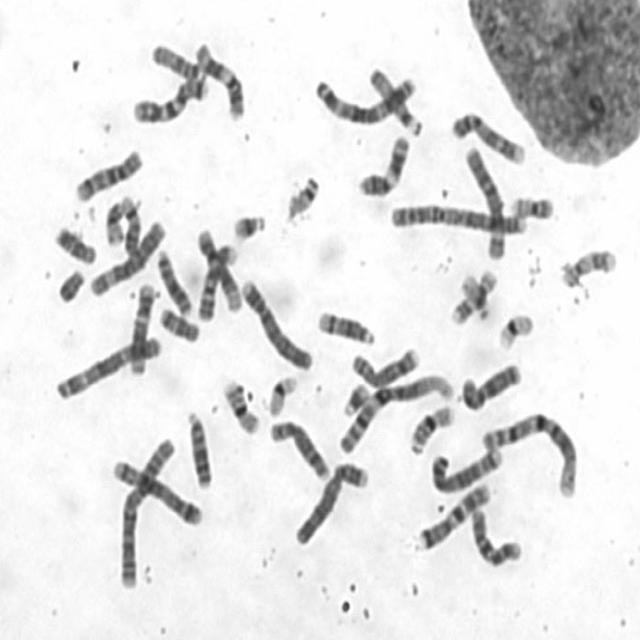A1: (335, 368, 457, 456), (475, 404, 581, 500)
A2: (113, 428, 177, 591), (386, 196, 529, 238)
A3: (52, 331, 165, 402), (310, 69, 418, 127)
B4: (236, 270, 314, 372), (290, 455, 372, 549)
B5: (109, 453, 204, 528), (428, 443, 504, 495)
C10: (72, 144, 144, 204), (466, 504, 524, 568)
C11: (190, 36, 247, 122), (353, 129, 411, 199)
C12: (192, 223, 244, 317), (125, 278, 158, 378)
C6: (86, 212, 169, 298), (460, 139, 510, 262)
C7: (413, 478, 493, 552), (128, 70, 210, 126)
C8: (264, 414, 333, 482), (348, 340, 422, 390)
C9: (448, 106, 527, 166), (194, 234, 242, 323)
D13: (152, 245, 194, 317), (182, 406, 214, 492)
D14: (313, 304, 377, 347), (118, 192, 144, 258)
D15: (364, 62, 424, 138), (147, 36, 206, 84)
E16: (406, 398, 458, 457), (219, 372, 263, 437)
E17: (555, 240, 620, 290), (448, 264, 500, 326)
E18: (50, 219, 99, 265), (155, 303, 201, 343)
F19: (495, 306, 537, 352), (264, 368, 300, 418)
F20: (506, 189, 556, 220), (102, 195, 126, 246)
G21: (229, 206, 269, 244), (337, 377, 371, 417)
G22: (283, 168, 323, 222), (459, 273, 491, 322)
X: (456, 355, 525, 414)
Y: (53, 263, 86, 304)
